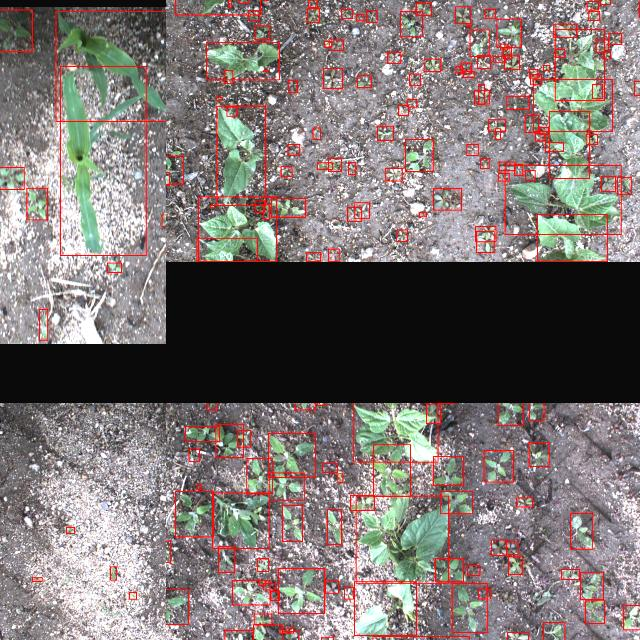crop: (59, 66, 145, 256), (55, 10, 166, 121), (356, 496, 448, 582), (504, 166, 620, 234), (198, 196, 276, 262), (353, 403, 437, 462), (217, 106, 266, 206), (532, 79, 612, 131), (554, 30, 604, 100), (536, 214, 606, 262), (354, 582, 416, 636), (212, 492, 268, 548), (548, 112, 590, 178), (206, 42, 278, 80), (278, 568, 324, 614), (268, 433, 314, 477), (372, 444, 410, 496), (174, 491, 212, 537), (452, 584, 486, 632), (196, 238, 256, 262), (268, 472, 304, 500), (231, 580, 269, 606), (215, 424, 243, 458), (246, 458, 272, 494), (483, 451, 513, 482), (433, 456, 463, 486), (570, 513, 592, 549), (166, 589, 187, 624), (282, 505, 302, 541), (434, 558, 464, 582), (440, 491, 472, 513), (580, 572, 602, 600), (497, 403, 522, 425), (185, 426, 219, 442), (584, 600, 604, 624), (327, 510, 341, 544), (252, 625, 281, 640), (623, 605, 640, 630), (224, 630, 252, 640), (528, 403, 543, 420)
weed: (0, 9, 32, 51), (405, 139, 433, 171), (271, 198, 305, 218), (496, 19, 520, 47), (26, 188, 46, 220), (433, 188, 461, 210), (400, 12, 422, 36), (469, 29, 488, 56), (0, 167, 23, 189), (528, 442, 548, 466), (166, 156, 182, 184), (218, 546, 234, 572), (322, 68, 342, 88), (542, 622, 564, 640), (476, 232, 494, 252), (350, 496, 374, 510), (475, 226, 495, 242), (552, 24, 576, 36), (454, 6, 470, 24), (506, 95, 528, 108), (426, 403, 440, 423), (490, 540, 506, 556), (508, 557, 522, 575), (39, 310, 47, 340), (617, 178, 631, 195), (424, 58, 441, 72), (601, 176, 615, 192), (524, 116, 538, 132), (385, 168, 401, 182), (377, 126, 393, 140), (254, 25, 270, 39), (237, 429, 250, 446), (504, 55, 518, 69), (474, 90, 488, 104), (416, 2, 430, 16), (354, 204, 368, 218), (347, 208, 361, 222), (327, 158, 341, 172), (488, 120, 504, 132), (476, 54, 489, 68), (545, 142, 563, 152), (253, 614, 271, 624), (560, 569, 578, 579), (356, 76, 370, 88), (306, 8, 318, 22), (256, 558, 268, 572), (324, 581, 338, 593), (506, 633, 527, 640), (595, 40, 607, 52), (287, 144, 299, 156), (516, 498, 532, 507), (505, 542, 517, 554), (282, 631, 298, 640), (107, 263, 121, 273), (329, 40, 343, 50), (306, 252, 320, 262), (328, 248, 338, 262), (592, 84, 602, 98), (188, 448, 198, 462), (467, 144, 478, 156), (408, 74, 419, 86), (386, 52, 399, 62), (498, 162, 514, 170), (316, 162, 332, 170), (322, 463, 336, 472), (585, 134, 597, 144), (586, 0, 598, 10), (608, 34, 620, 44), (484, 8, 496, 18), (478, 84, 484, 104), (460, 62, 470, 74), (396, 230, 406, 242), (366, 10, 376, 22), (247, 10, 259, 20), (280, 166, 292, 176), (467, 566, 479, 576), (478, 589, 490, 599), (343, 587, 353, 599), (224, 70, 232, 84), (530, 74, 540, 85), (341, 9, 352, 19), (588, 12, 600, 21), (524, 171, 534, 181), (398, 105, 408, 115), (254, 202, 264, 212), (514, 164, 522, 176), (312, 128, 320, 140), (263, 204, 269, 220), (288, 80, 296, 92), (634, 80, 640, 95), (479, 158, 488, 168), (226, 106, 236, 115), (462, 70, 473, 78), (110, 566, 116, 580), (279, 628, 293, 634), (534, 133, 544, 141), (503, 48, 511, 58), (528, 70, 538, 78), (498, 173, 508, 181), (406, 99, 416, 107), (493, 56, 505, 62), (348, 162, 354, 174), (263, 584, 275, 590), (602, 51, 610, 59), (556, 49, 564, 57), (128, 592, 136, 600), (270, 592, 278, 600), (307, 0, 316, 7), (161, 215, 166, 227), (538, 128, 548, 134), (494, 129, 500, 139), (207, 403, 217, 409), (355, 14, 363, 20), (66, 527, 74, 533), (499, 44, 506, 50), (324, 41, 331, 47), (600, 0, 610, 4), (32, 578, 42, 582), (166, 172, 169, 185), (542, 64, 548, 70), (456, 66, 462, 72), (338, 473, 342, 482), (258, 580, 264, 586), (321, 637, 333, 640), (418, 213, 426, 217), (238, 0, 247, 3), (227, 0, 230, 7), (196, 484, 200, 488), (262, 70, 268, 72), (216, 98, 220, 100), (210, 206, 214, 208), (466, 26, 470, 26)
